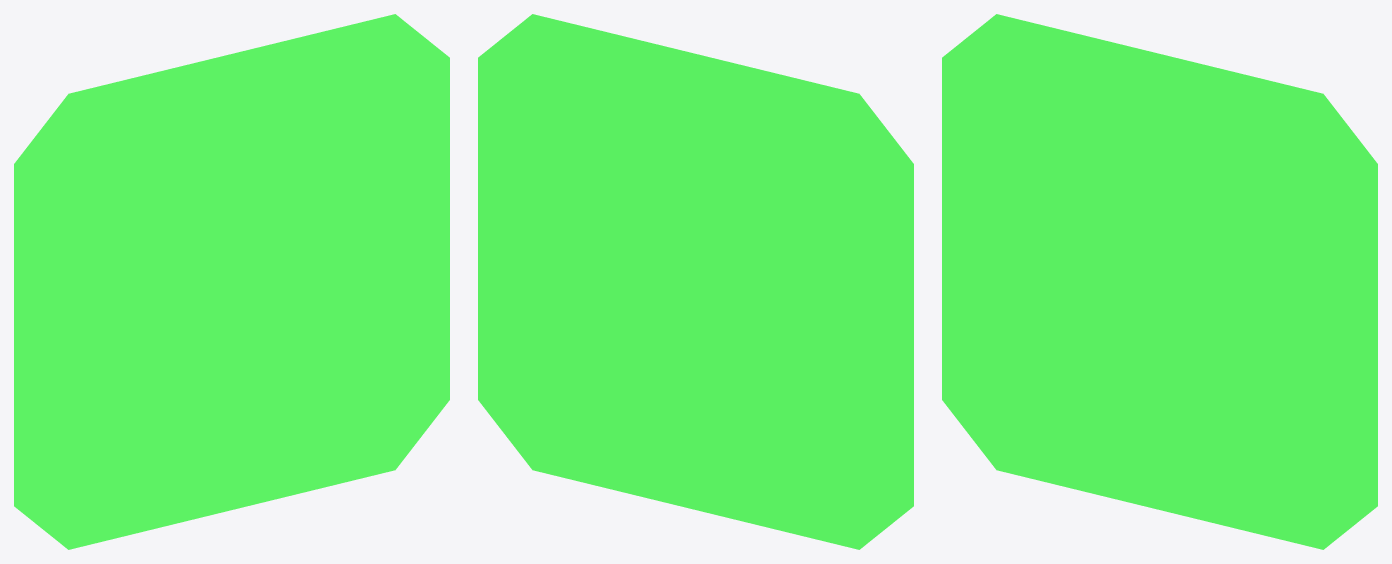
The model's file is TesseractVisual.glb.
3 views of the same model, side by side, from view 1: azimuth 30°, elevation 25°; view 2: azimuth 150°, elevation 25°; view 3: azimuth 330°, elevation 25° (orthographic).
Parts seen in each view (by area): view 1: Tesseract; view 2: Tesseract; view 3: Tesseract.
Boxes of the visible parts, <box> form: Tesseract: <box>14,14,449,549</box>; Tesseract: <box>478,14,913,549</box>; Tesseract: <box>942,14,1377,549</box>.
Bounding box in the file's own units: 80 × 80 × 0.
